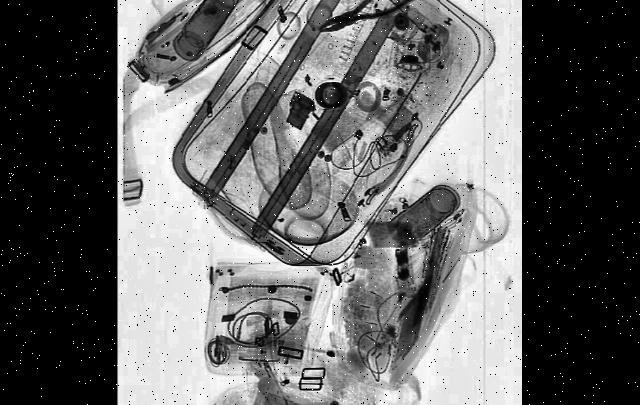Pliers: (319, 0, 420, 43)
